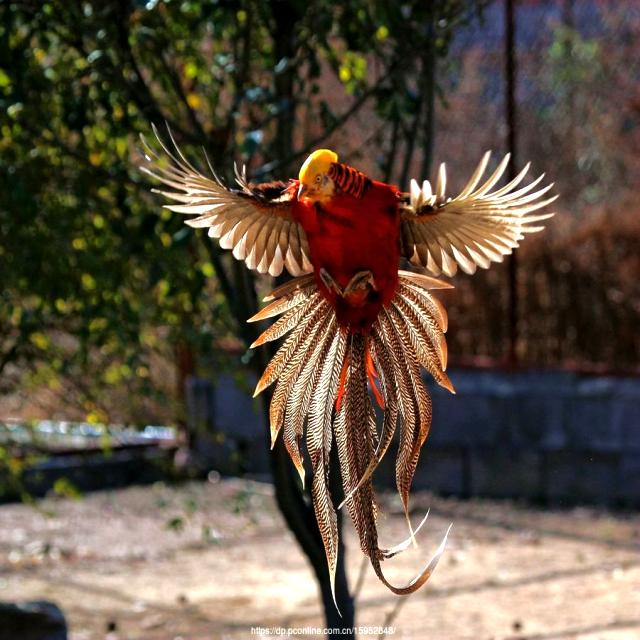Chrysolophus pictus feather: (251, 270, 454, 594)
